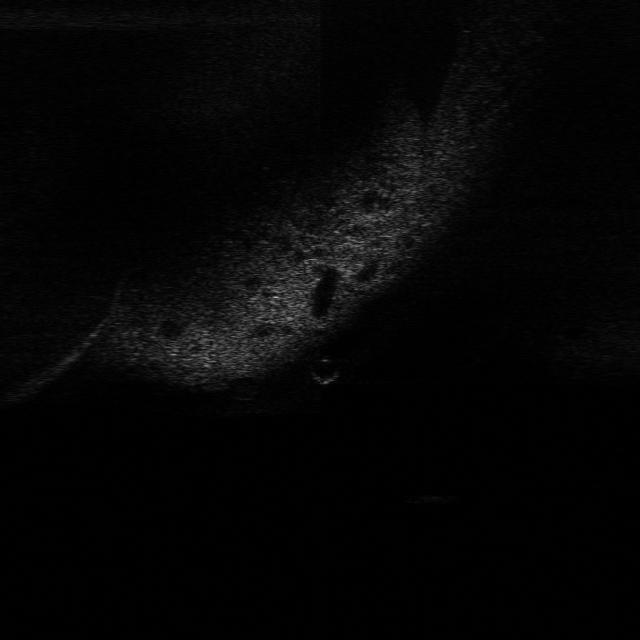ball: (304, 354, 344, 386)
cube: (404, 488, 460, 508)
